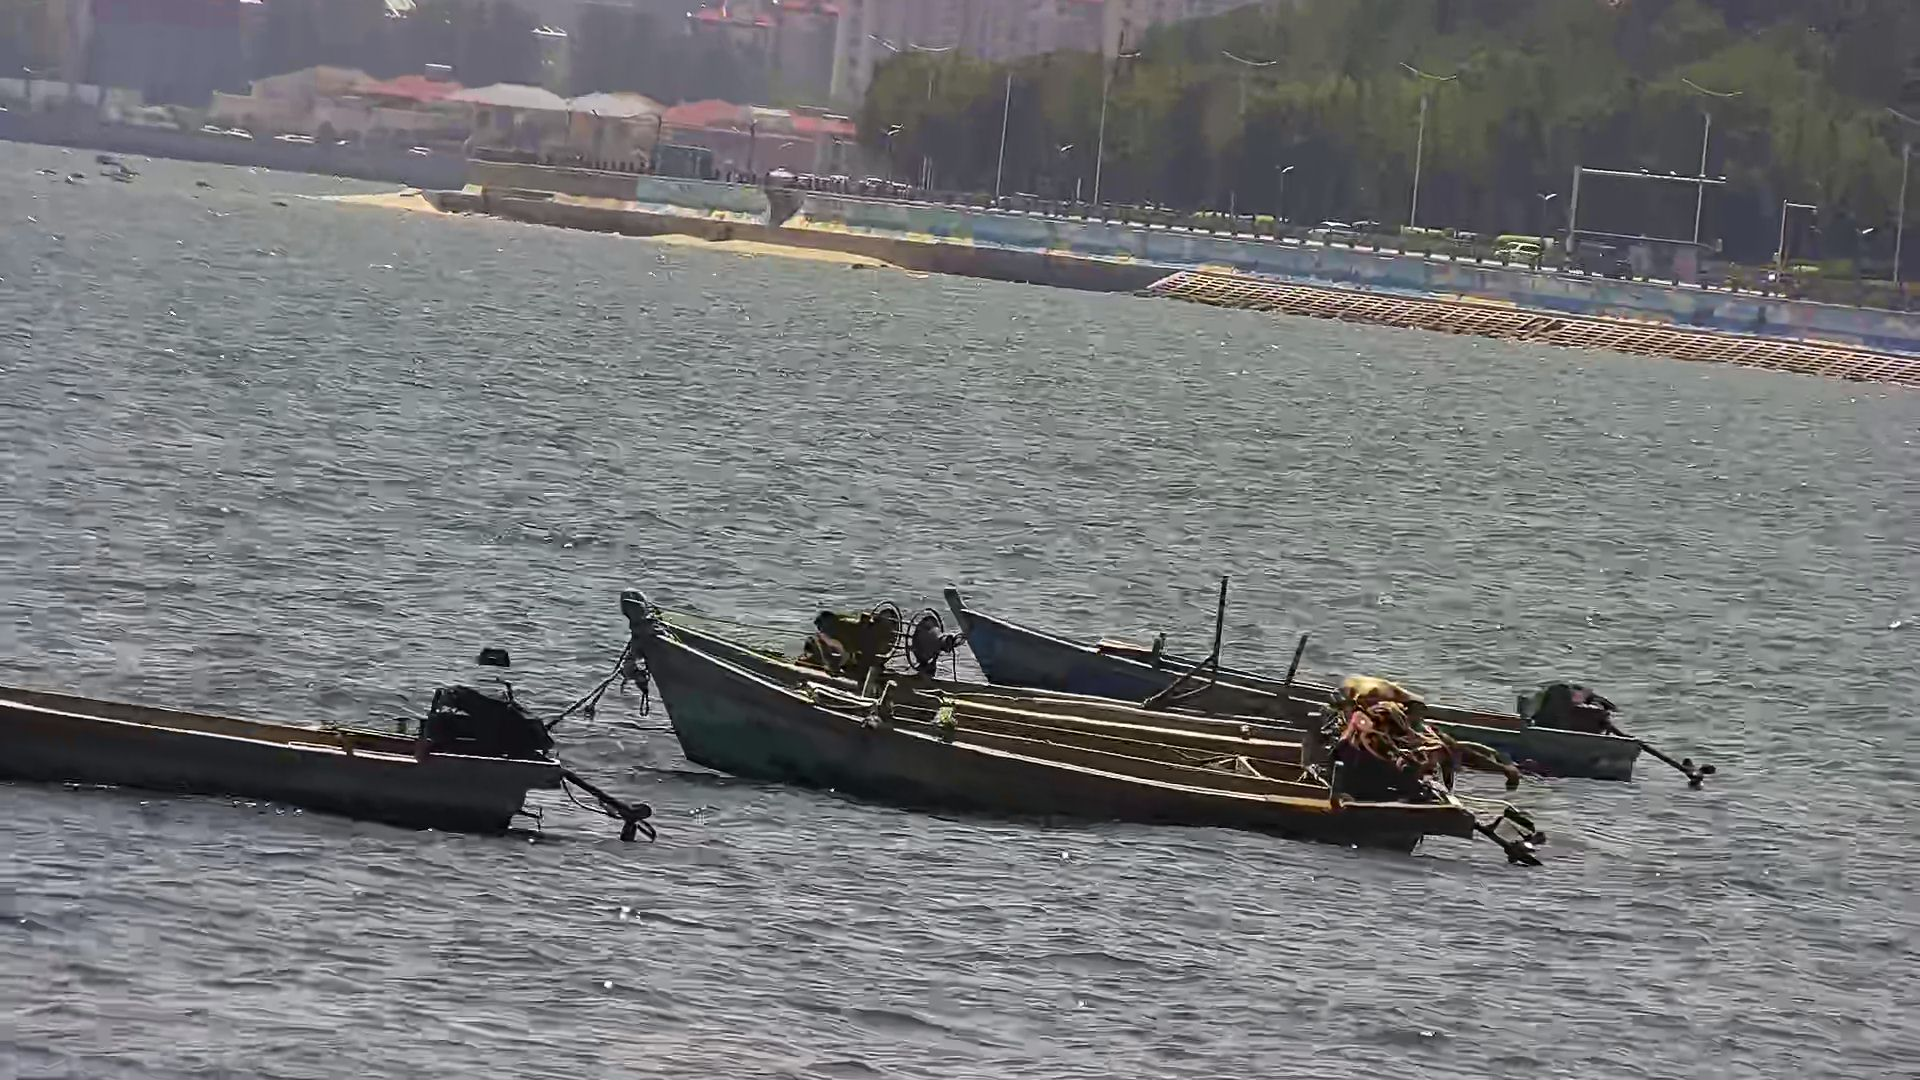ball: (463, 636, 529, 669)
boat: (611, 564, 1552, 872), (940, 579, 1724, 791), (1, 650, 680, 862)
rock: (94, 160, 140, 189), (182, 167, 224, 194), (57, 160, 88, 191), (90, 146, 131, 169)
